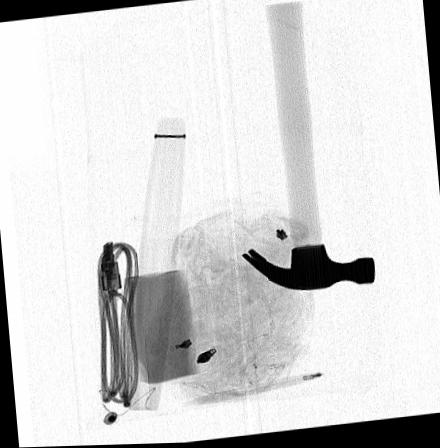Hammer: (239, 2, 375, 292)
